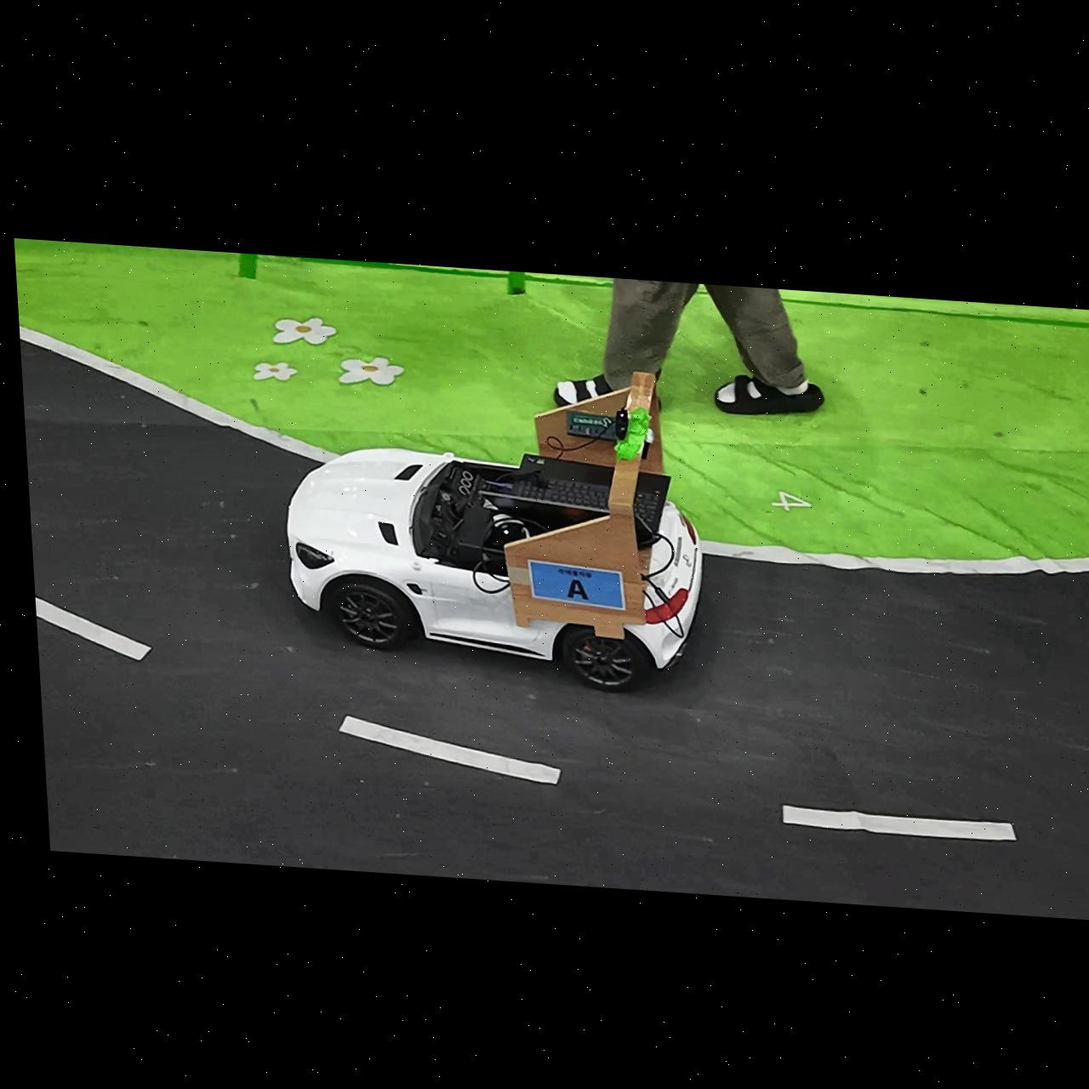broken_line: (340, 717, 561, 784), (782, 805, 1016, 841), (35, 598, 151, 660)
